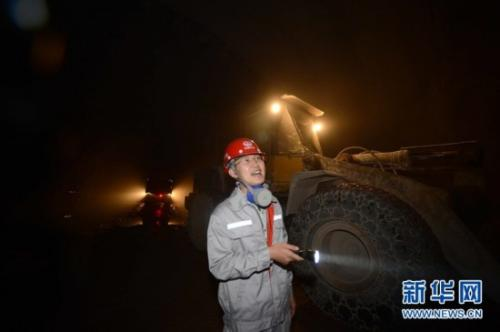gloves: (268, 241, 304, 266)
hard-hat: (223, 136, 265, 173)
person: (206, 136, 304, 331)
vest: (205, 182, 295, 330)
